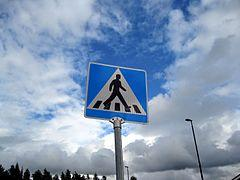Pedestrian Crossing: (85, 55, 155, 128)
